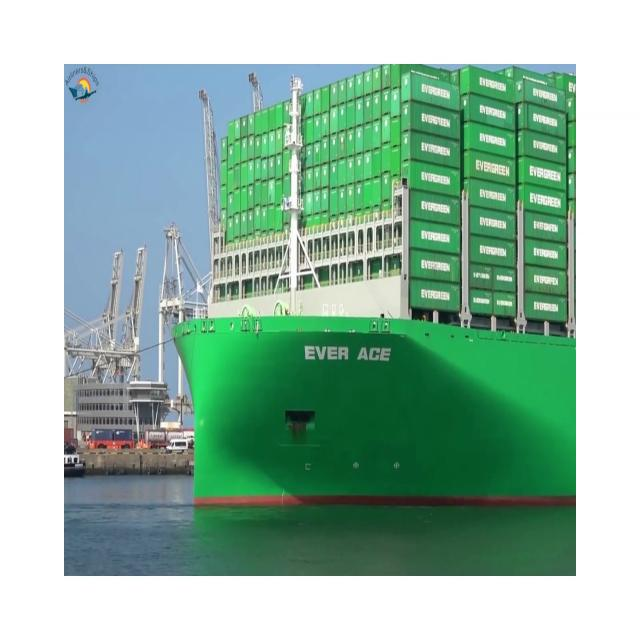OCR: (299, 332, 393, 375)
